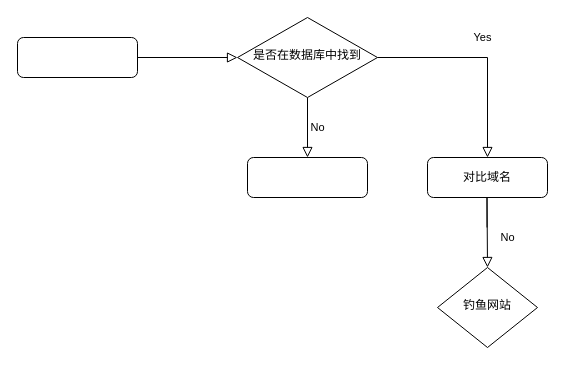
Some shapes in this 565 by 365 pixel diagram are drawn without their labels. Here are the shapes that lost their labels. From the top down, the centre of each, then its label:
At pixel 77 57: "识别首页screenlogo的Logo".
At pixel 307 177: "网页交互（行为）".
